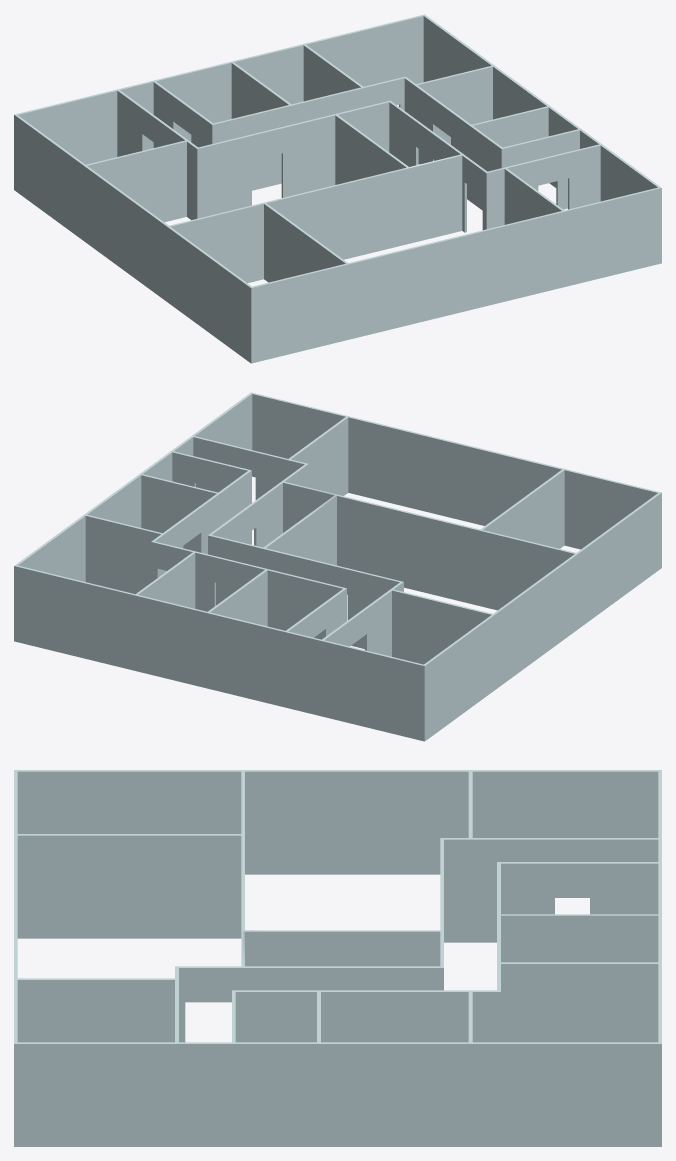
Rendered from floorplan39.dae.
3 renders of one model, top to bottom at view 1: azimuth 30°, elevation 25°; view 2: azimuth 150°, elevation 25°; view 3: azimuth 270°, elevation 25°, orthographic. The views are drawn at different scales.
Visible parts, largest first — view 1: FloorBoundary, Room_5, Room_2, Room_1, Room_3, Room_9, Room_8, Room_0, Room_7, Room_6, Room_4; view 2: FloorBoundary, Room_5, Room_2, Room_3, Room_9, Room_0, Room_1, Room_6, Room_7, Room_8, Room_4; view 3: FloorBoundary, Room_9, Room_5, Room_2, Room_1, Room_7, Room_3, Room_4, Room_8, Room_0, Room_6.
Part boxes in pixels (x1,y1,x2,y2): FloorBoundary: (14,15,660,363); Room_5: (263,155,565,339); Room_2: (83,114,409,302); Room_1: (504,144,661,286); Room_3: (14,89,187,240); Room_9: (303,14,493,117); Room_8: (334,100,464,243); Room_0: (152,62,290,190); Room_7: (413,65,550,200); Room_6: (231,44,364,124); Room_4: (469,107,579,210); FloorBoundary: (14,393,661,740); Room_5: (282,416,565,606); Room_2: (262,494,578,690); Room_3: (320,590,495,741); Room_9: (14,514,195,670); Room_0: (206,568,346,707); Room_1: (191,392,348,499); Room_6: (134,551,268,688); Room_7: (85,474,220,594); Room_8: (208,481,337,605); Room_4: (139,451,251,544); FloorBoundary: (14,770,661,1146); Room_9: (468,962,661,1146); Room_5: (14,834,244,1042); Room_2: (241,770,472,965); Room_1: (14,978,178,1146); Room_7: (317,990,472,1146); Room_3: (468,770,661,942); Room_4: (232,990,320,1146); Room_8: (241,930,443,1042); Room_0: (497,862,661,949); Room_6: (497,914,661,998).
Size of the model in its own units: 17.1 by 17.1 by 3.
